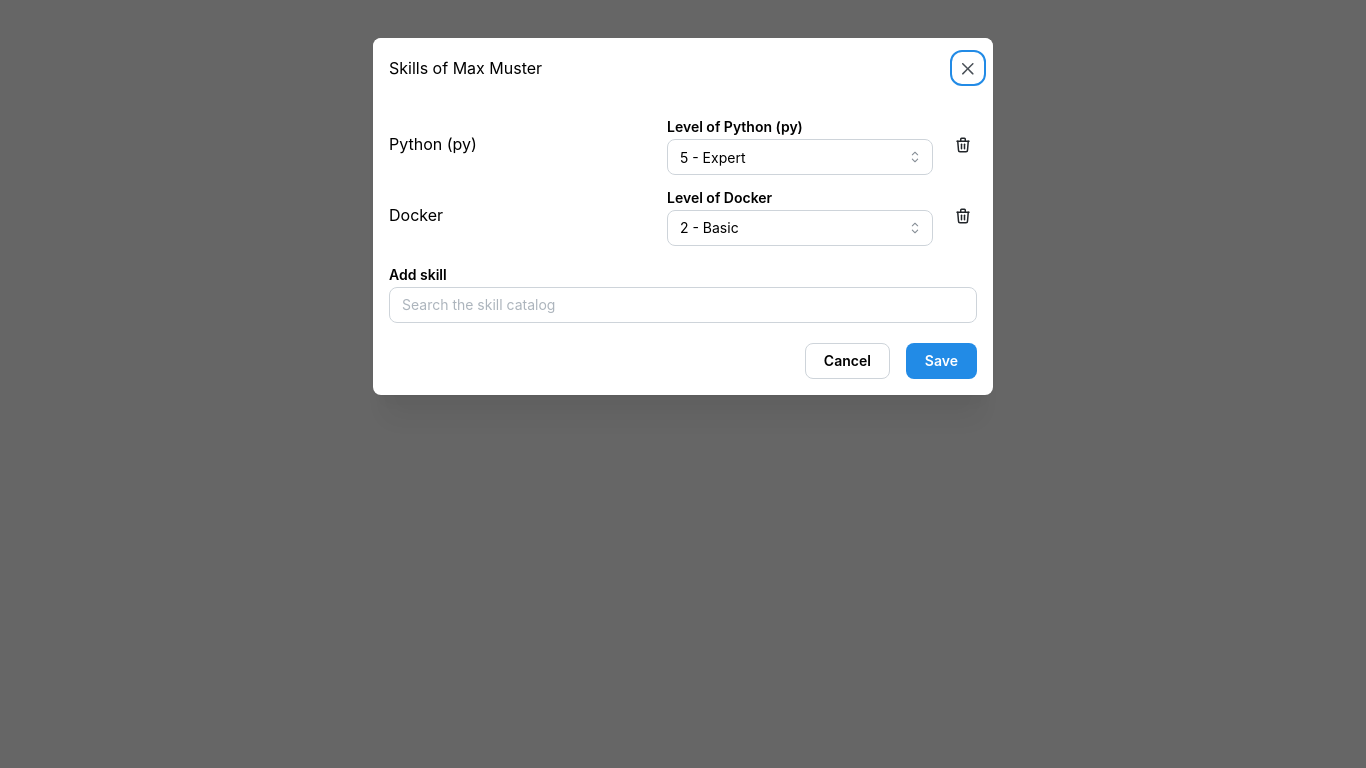
it: SkillsDialog › blocks saving until a newly added skill has a level
This screenshot has width=1366, height=768.
Type "Kotlin" into the field labelled "Add skill" at (683, 305), box top-left (389, 287), bottom-right (977, 323)
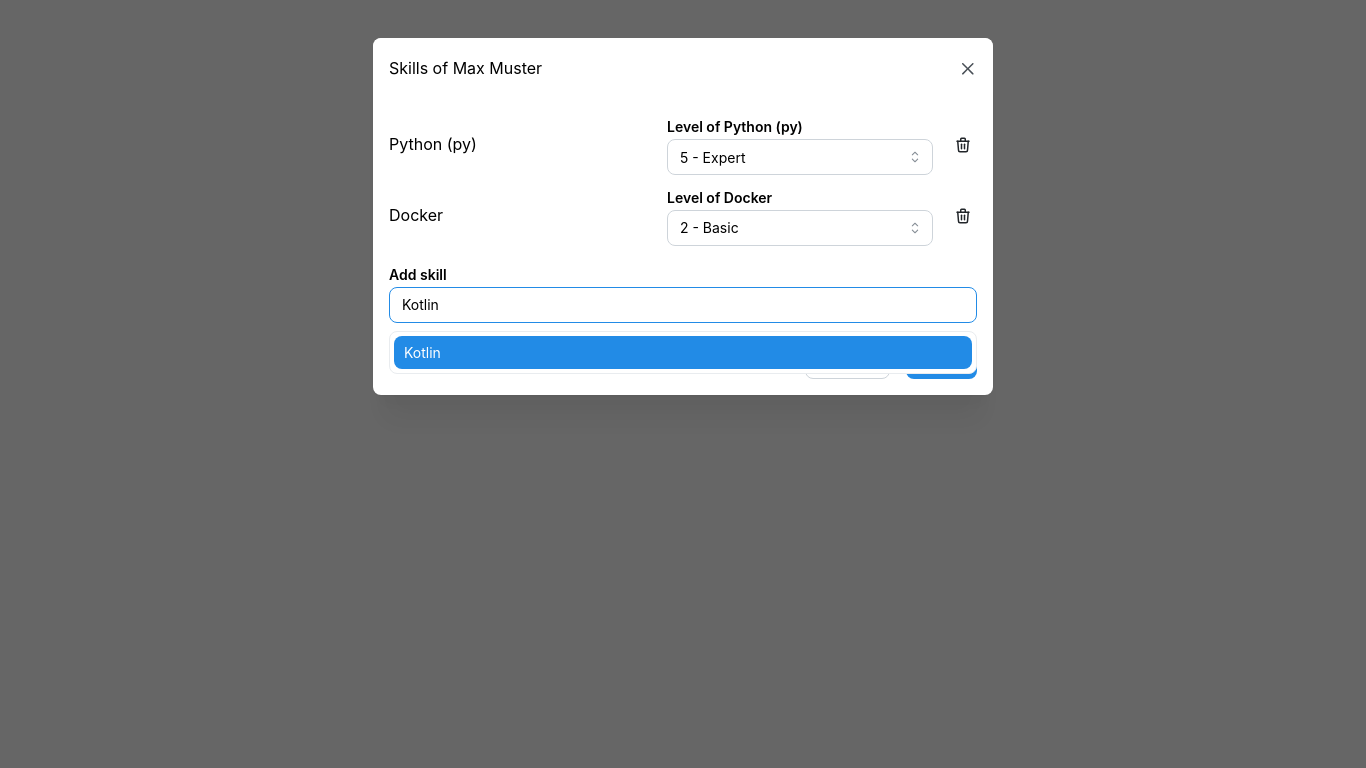
Click the option "Kotlin" at (422, 352), box top-left (394, 336), bottom-right (972, 370)
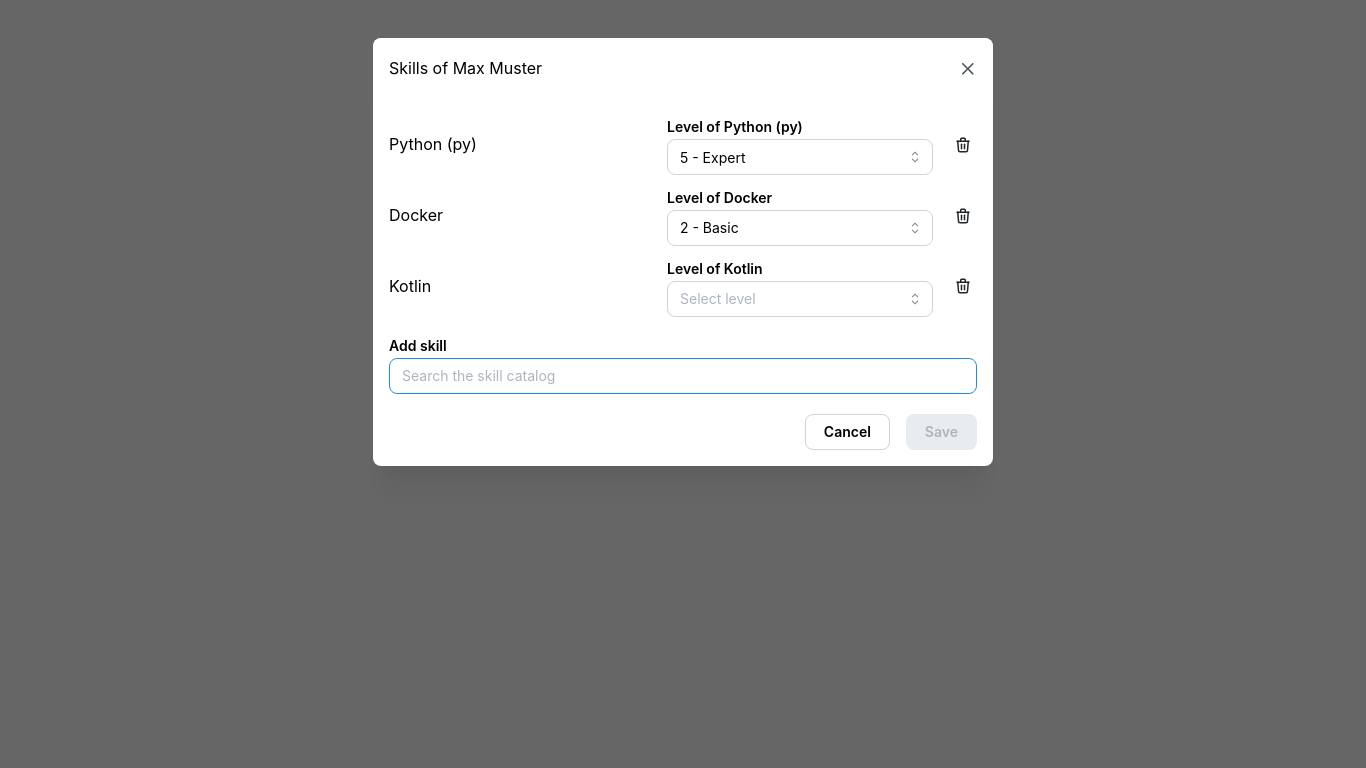
Result: the option is gone
Result: the button "Save" is disabled at top-left (906, 414), bottom-right (977, 450)
Click the dropdown labelled "Level of Kotlin" at (800, 299), box top-left (667, 281), bottom-right (933, 317)
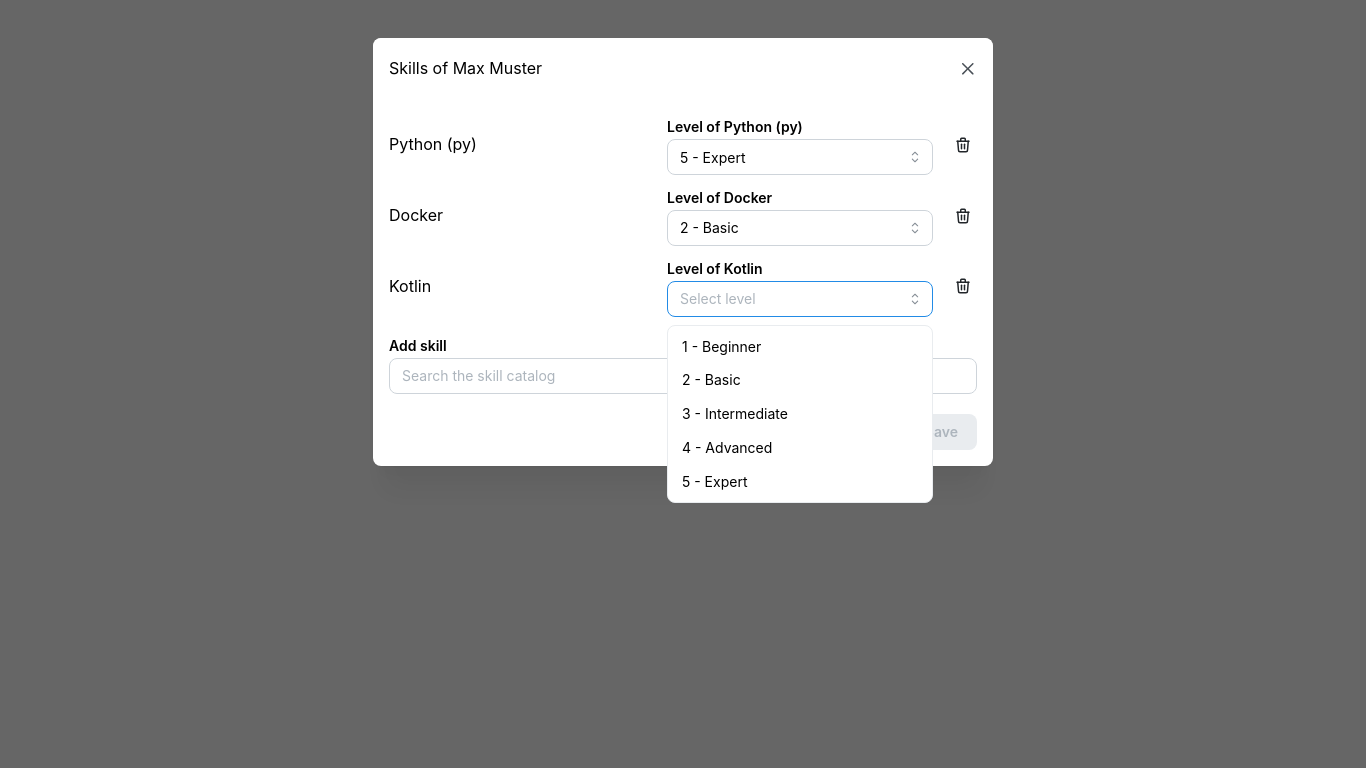
Click the option "4 - Advanced" at (727, 447), box top-left (682, 439), bottom-right (772, 456)
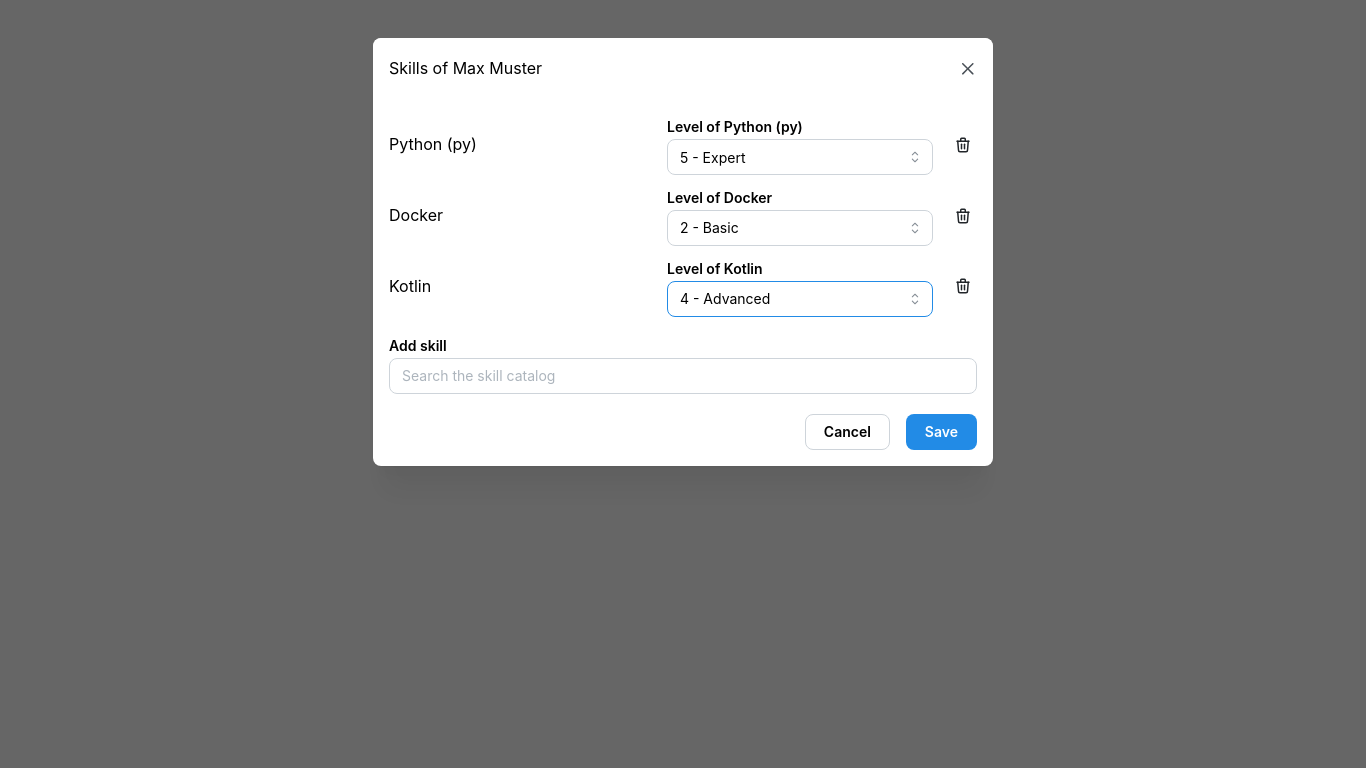
Result: the button "Save" is enabled at top-left (906, 414), bottom-right (977, 450)
